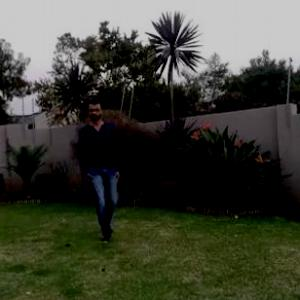follow: (82, 99, 122, 233)
